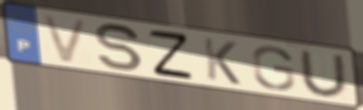G: (249, 45, 297, 92)
K: (200, 36, 243, 87)
S: (93, 22, 145, 74)
U: (296, 49, 351, 100)
V: (39, 12, 92, 66)
Z: (146, 28, 195, 80)
